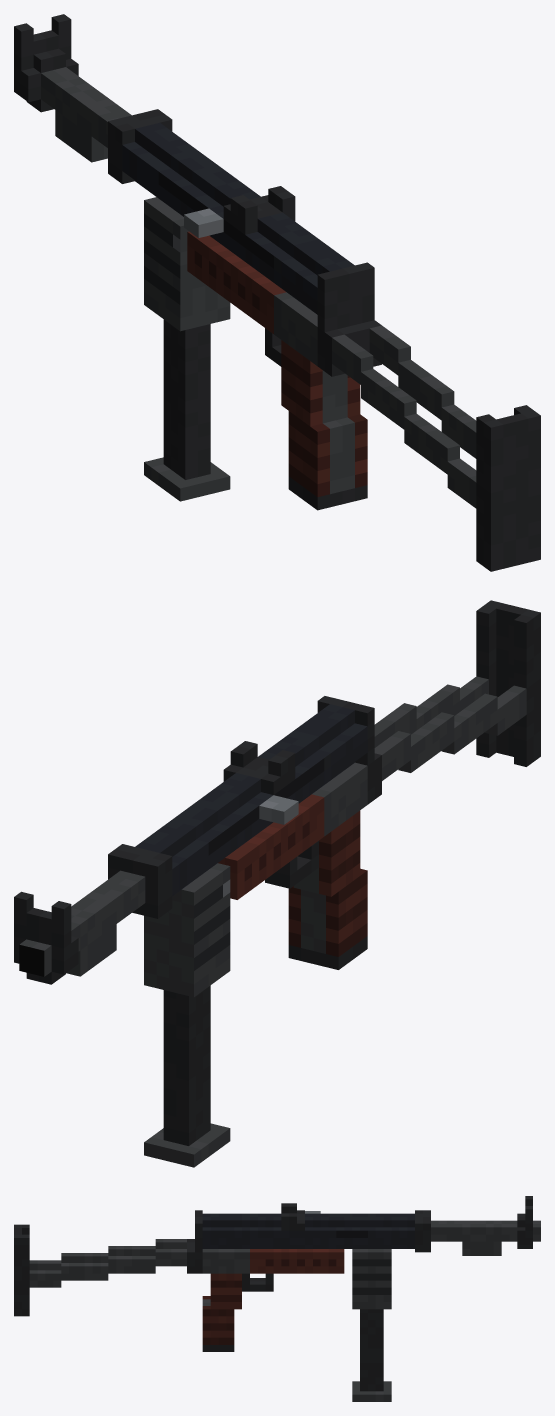
3 views of the same model, one above another, from view 1: azimuth 30°, elevation 25°; view 2: azimuth 150°, elevation 25°; view 3: azimuth 270°, elevation 25° (orthographic). The views are drawn at different scales.
Parts seen in each view (by area): view 1: wpn__mp40__body, wpn__mp40__mag, wpn__mp40__slide; view 2: wpn__mp40__body, wpn__mp40__mag, wpn__mp40__slide; view 3: wpn__mp40__body, wpn__mp40__mag.
Boxes of the visible parts, <box> form: wpn__mp40__body: <box>14,14,540,571</box>; wpn__mp40__mag: <box>144,319,230,501</box>; wpn__mp40__slide: <box>184,208,223,237</box>; wpn__mp40__body: <box>14,600,540,997</box>; wpn__mp40__mag: <box>144,985,230,1167</box>; wpn__mp40__slide: <box>259,795,298,824</box>; wpn__mp40__body: <box>14,1196,540,1351</box>; wpn__mp40__mag: <box>352,1309,391,1401</box>.
Bounding box in the file's own units: 0.075 × 0.3375 × 0.8375.
